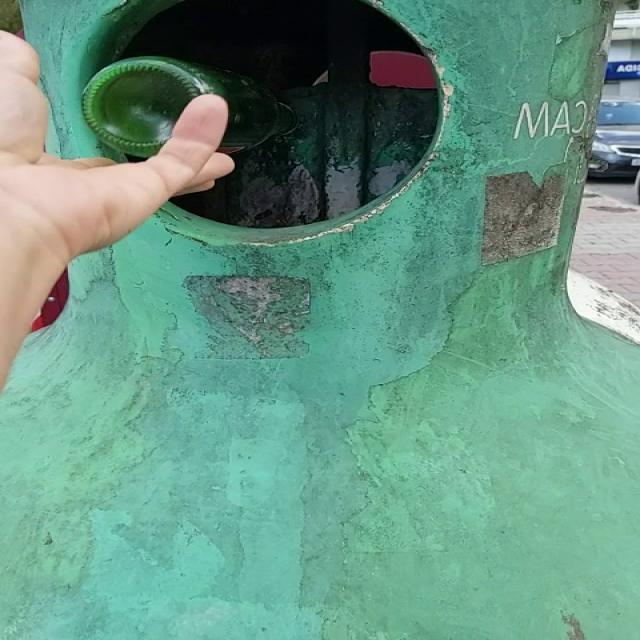Glass: (81, 56, 296, 157)
